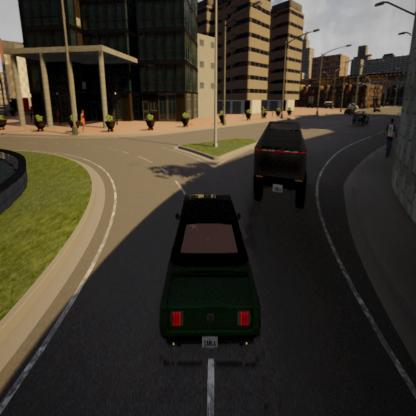Cars: (150, 186, 267, 361), (248, 110, 311, 215), (352, 107, 370, 130), (344, 102, 360, 116)
Pedestrian: (377, 115, 400, 162)
